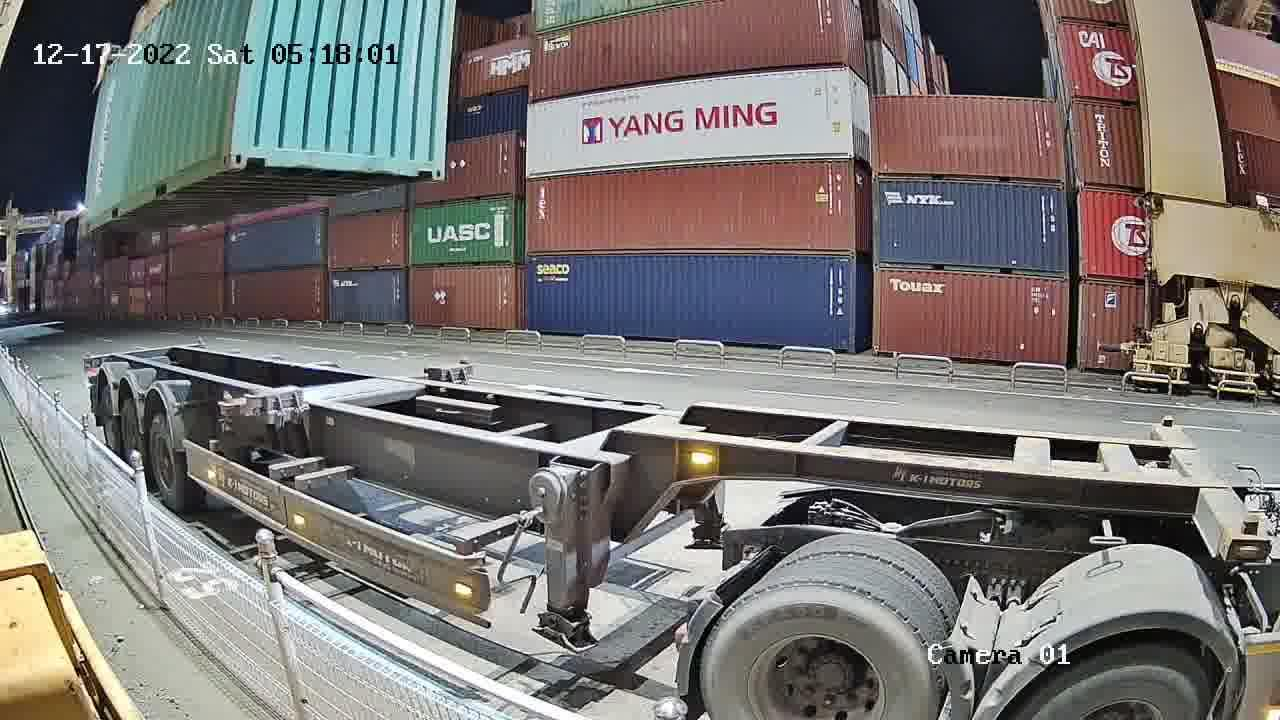Chassis: (237, 363, 472, 427)
Cone: (219, 412, 238, 432)
Container: (226, 132, 445, 180)
Hole_L: (226, 131, 253, 170)
Hole_R: (418, 140, 447, 180), (205, 132, 227, 168)
Tire: (697, 593, 936, 719), (1009, 642, 1223, 719), (149, 416, 183, 511), (117, 402, 144, 468)
